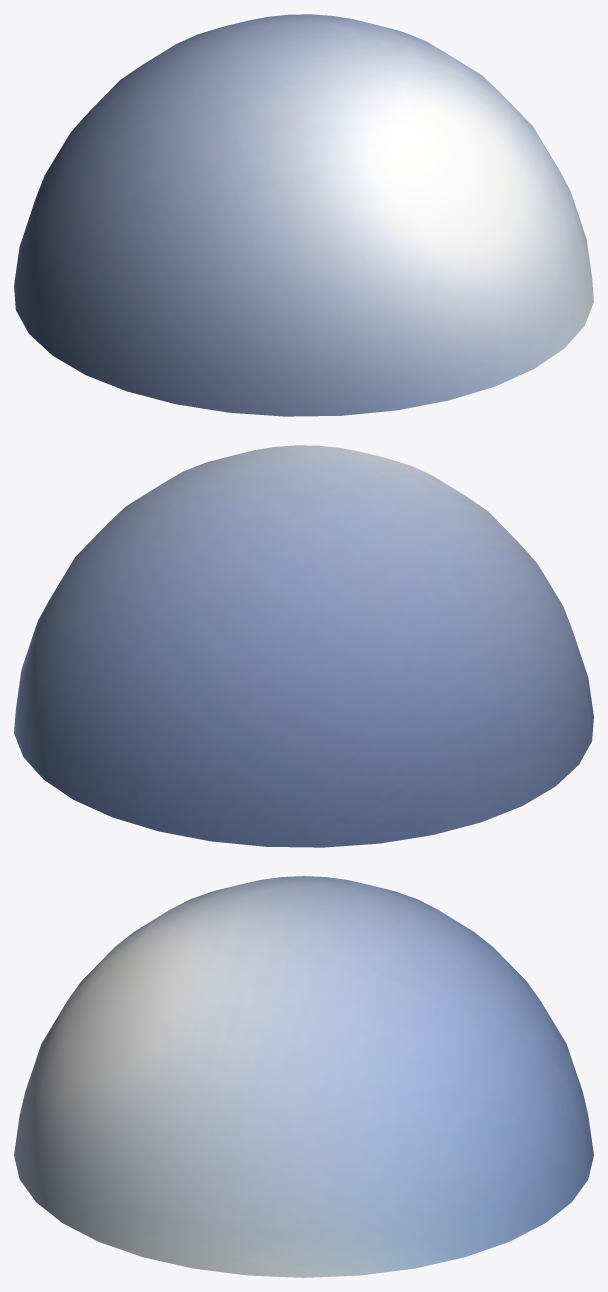
File: sky-smooth.obj
The picture shows the model from 3 angles, top to bottom: view 1: azimuth 30°, elevation 25°; view 2: azimuth 150°, elevation 25°; view 3: azimuth 270°, elevation 25°; orthographic projection.
Parts seen in each view (by area): view 1: Sphere; view 2: Sphere; view 3: Sphere.
Part boxes in pixels (<box>): Sphere: <box>14,14,593,416</box>; Sphere: <box>14,445,593,847</box>; Sphere: <box>14,876,593,1277</box>.
Bounding box in the file's own units: 39.67 × 18.92 × 39.67.
1 material, 1 textured.
